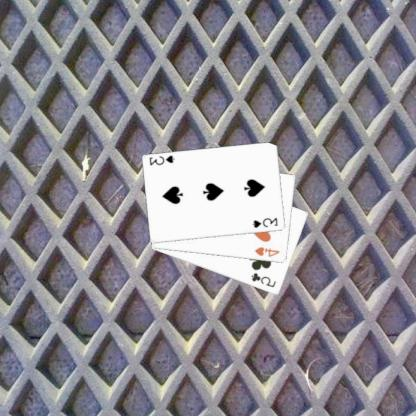3S: (252, 215, 281, 230), (149, 152, 178, 166)
4H: (254, 244, 282, 258)
5C: (250, 270, 278, 289)
